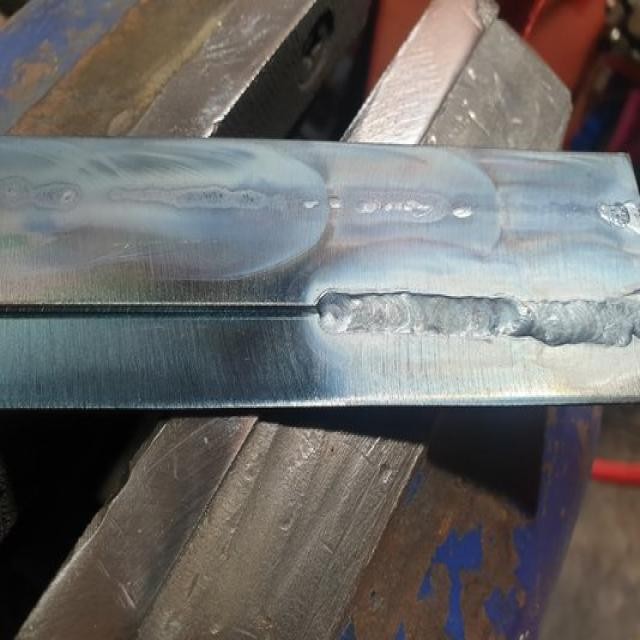Good Welding: (317, 292, 640, 347)
